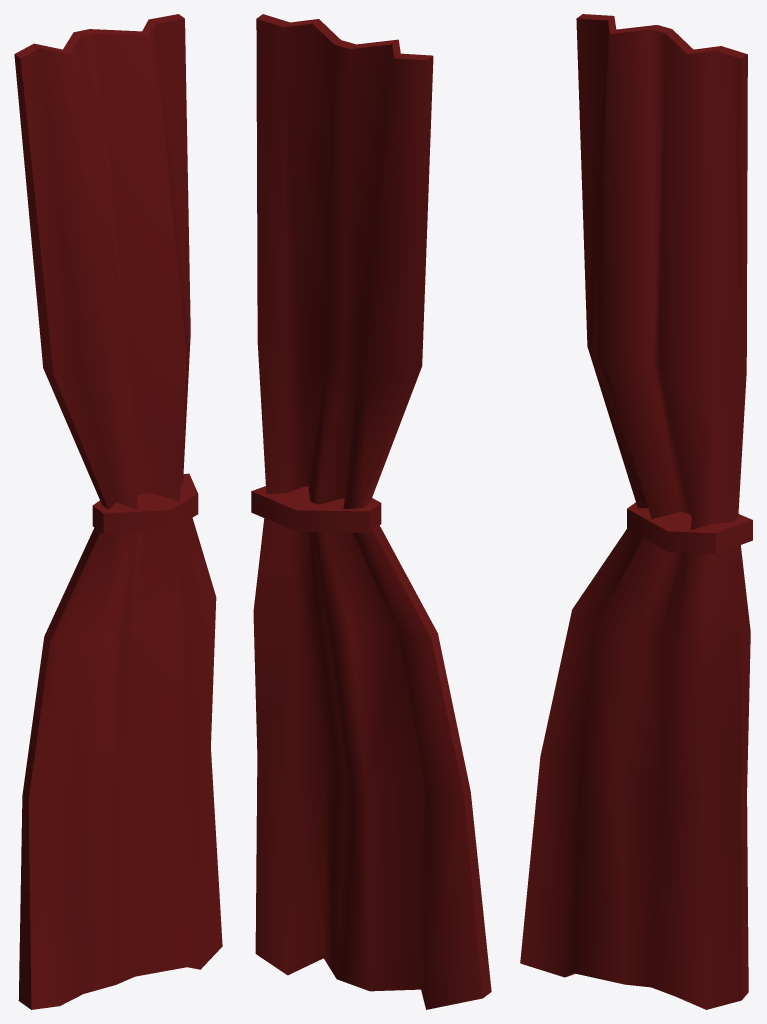
The model's file is F_bossromm_curtain2.fbx.
The picture shows the model from 3 angles, left to right: view 1: azimuth 30°, elevation 25°; view 2: azimuth 150°, elevation 25°; view 3: azimuth 330°, elevation 25°; orthographic projection. The views are drawn at different scales.
Visible parts, largest first — view 1: boss_curtain2; view 2: boss_curtain2; view 3: boss_curtain2.
Boxes of the visible parts, x1,y1,x2,y2 form: boss_curtain2: (14, 14, 222, 1009); boss_curtain2: (251, 14, 491, 1009); boss_curtain2: (520, 14, 752, 1009).
Bounding box in the file's own units: 52.81 × 226 × 21.15.
